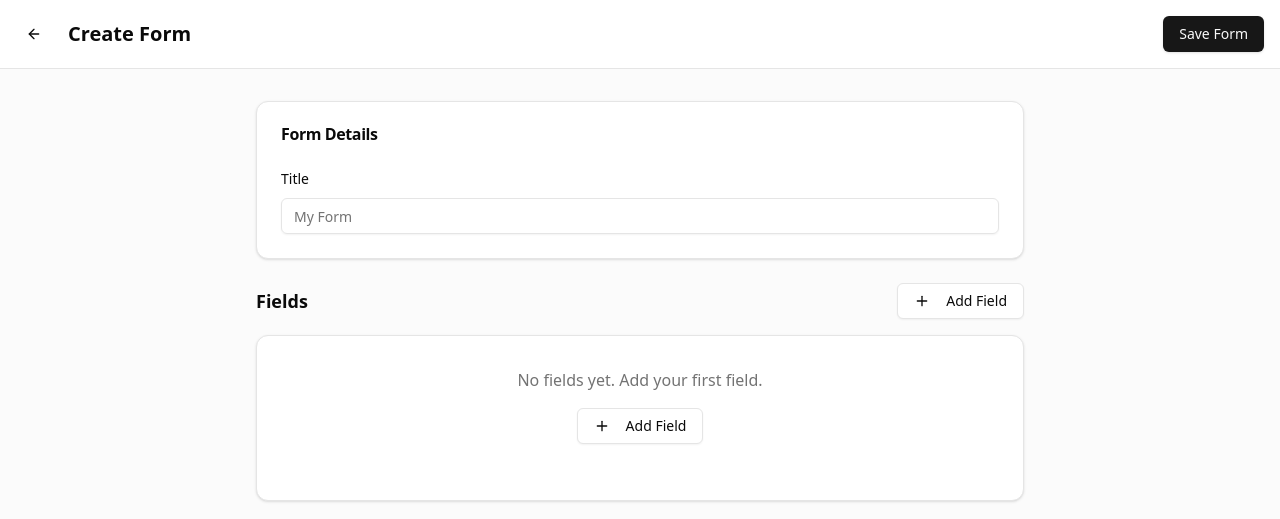
Test: BuilderPage › adds a field when clicking Add Field
Click the 1st button "Add Field" at (961, 301), box [897,283,1024,319]
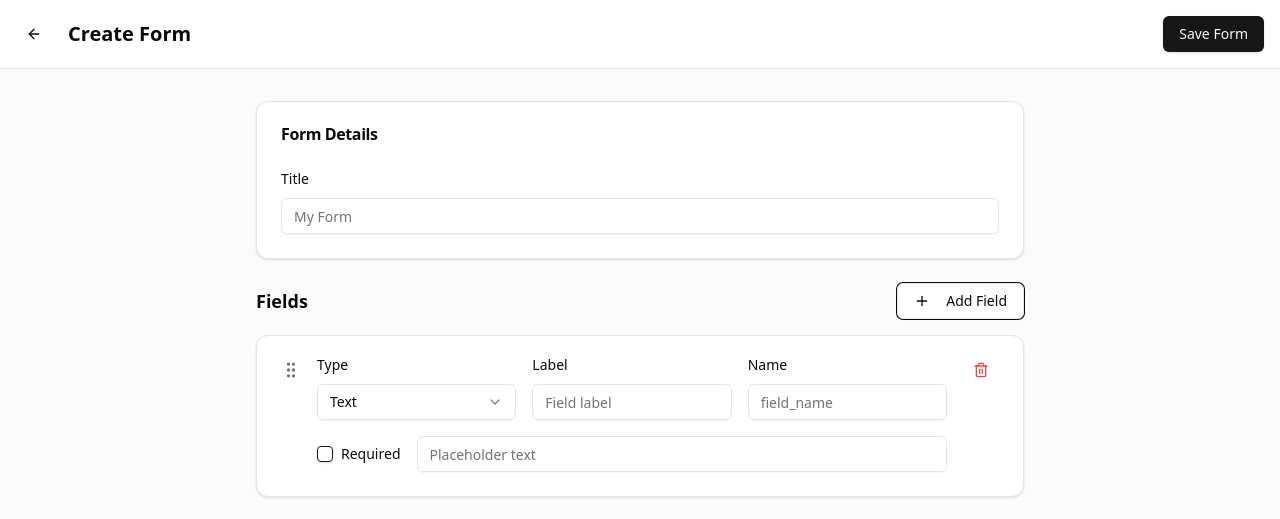
Now the field with placeholder "Field label" is shown, box [532,384,732,420]
Now the field with placeholder "field_name" is shown, box [748,384,947,420]
